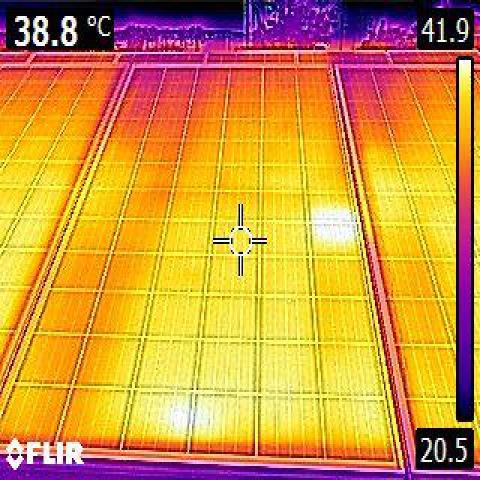fault: (313, 203, 355, 222), (315, 224, 357, 241), (171, 404, 189, 436), (192, 406, 206, 436)
